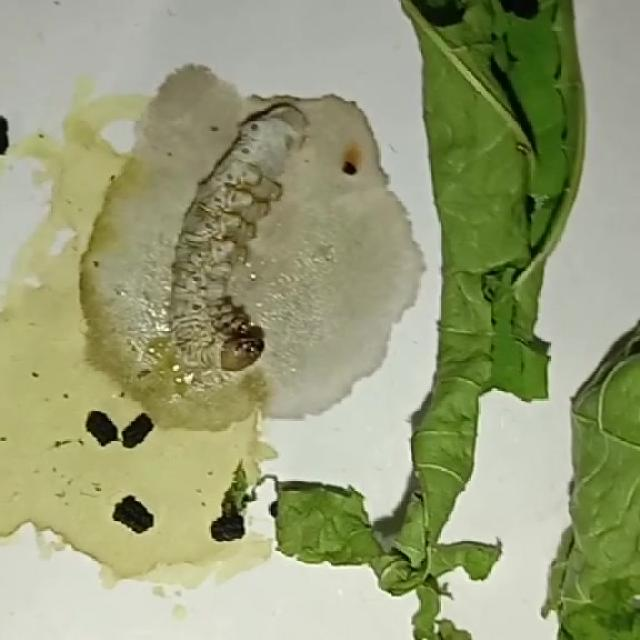Grasserie: (134, 89, 330, 399)
